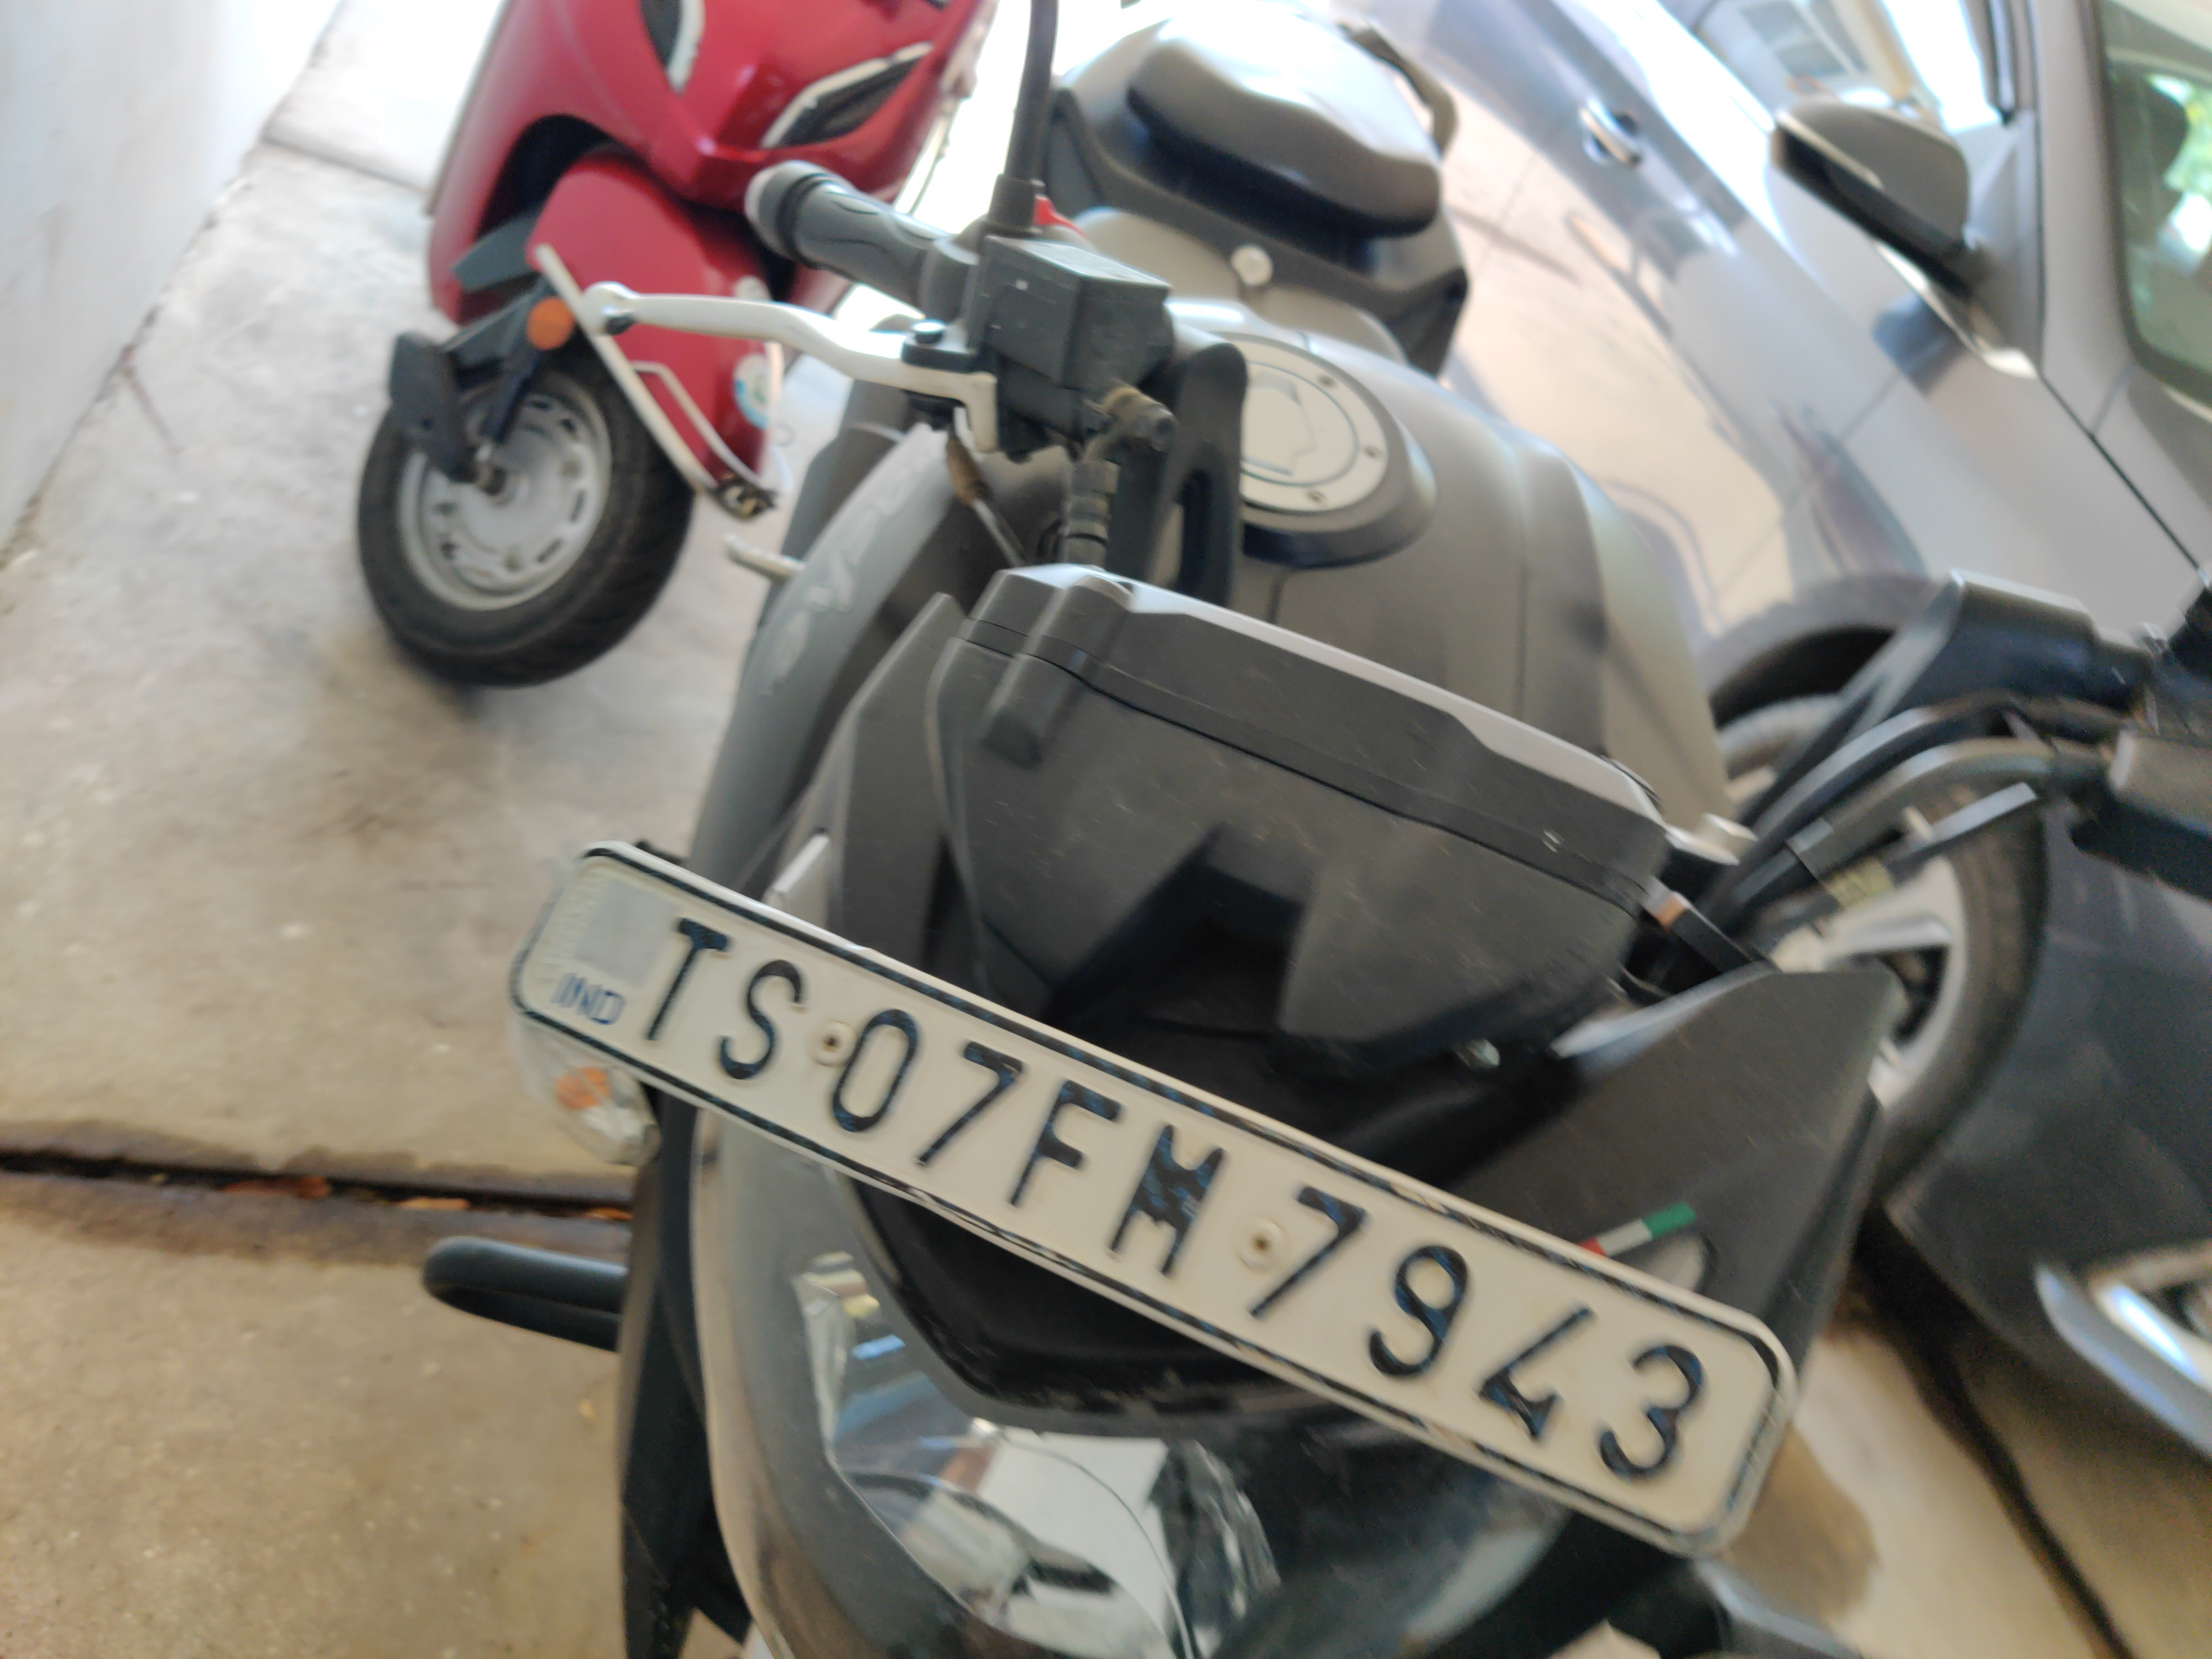plate: (484, 817, 1834, 1569)
